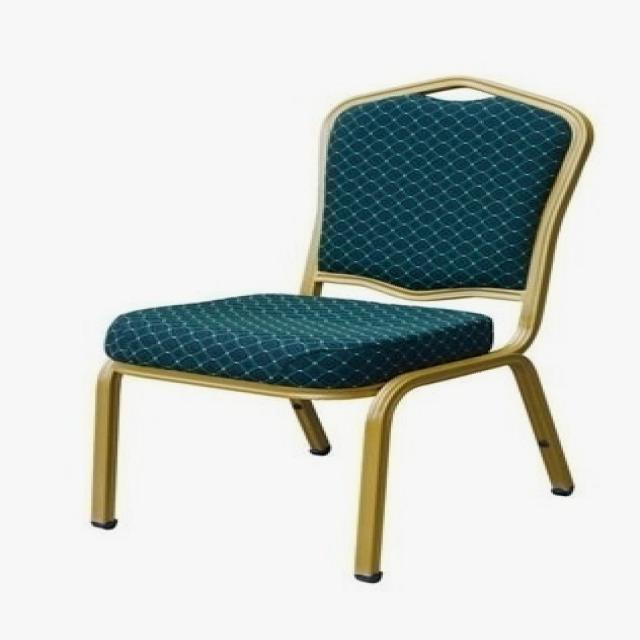Chair: (84, 68, 599, 588)
